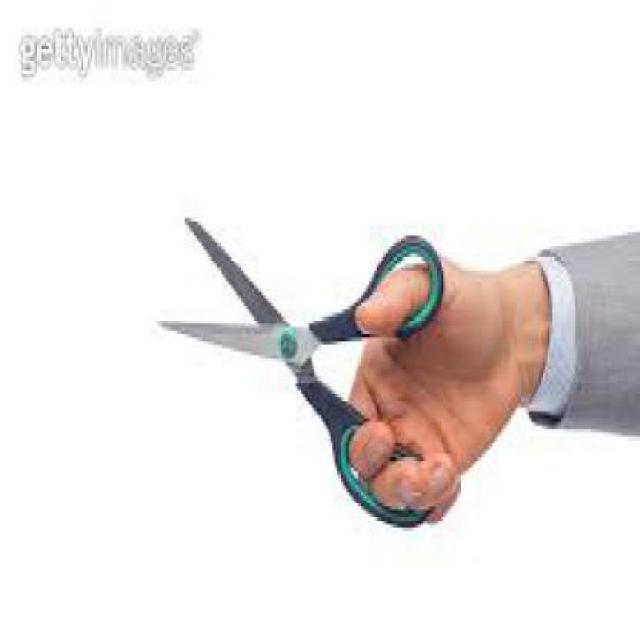scissors: (154, 210, 443, 528)
